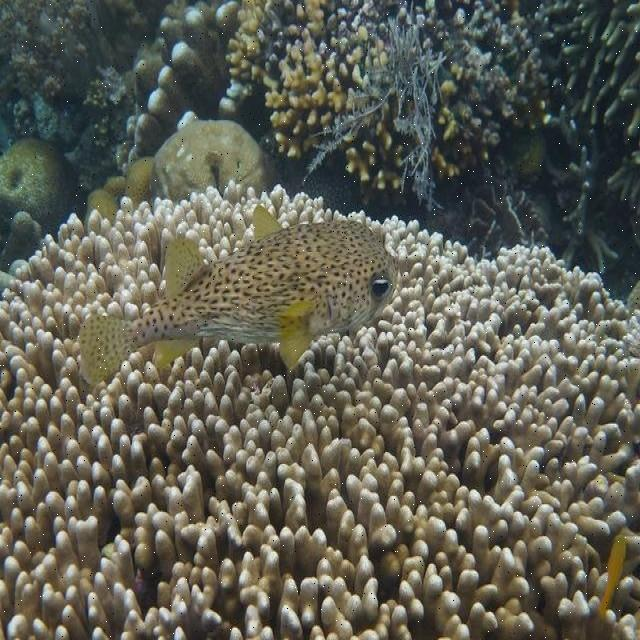fish: (78, 202, 398, 384)
reefs: (227, 0, 551, 212), (0, 1, 255, 190), (526, 1, 639, 274), (87, 120, 275, 224), (0, 138, 85, 268)
